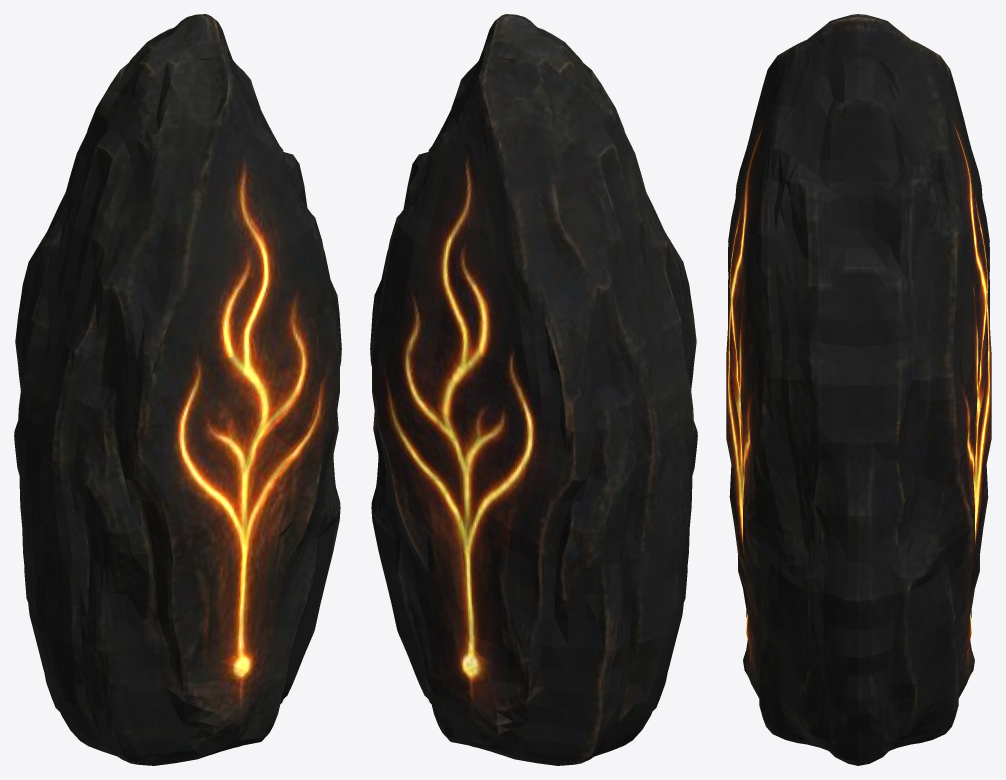
Rendered from glyph_2.glb.
3 views of the same model, side by side, from view 1: azimuth 30°, elevation 25°; view 2: azimuth 150°, elevation 25°; view 3: azimuth 270°, elevation 25° (orthographic). The views are drawn at different scales.
Visible parts, largest first — view 1: Mesh_0; view 2: Mesh_0; view 3: Mesh_0.
Part boxes in pixels (left/top/right/bottom): Mesh_0: left=14, top=14, right=341, bottom=765; Mesh_0: left=370, top=14, right=697, bottom=765; Mesh_0: left=726, top=14, right=991, bottom=765.
Size of the model in its own units: 0.8454 by 1.9 by 0.6301.
1 material, 1 textured.
